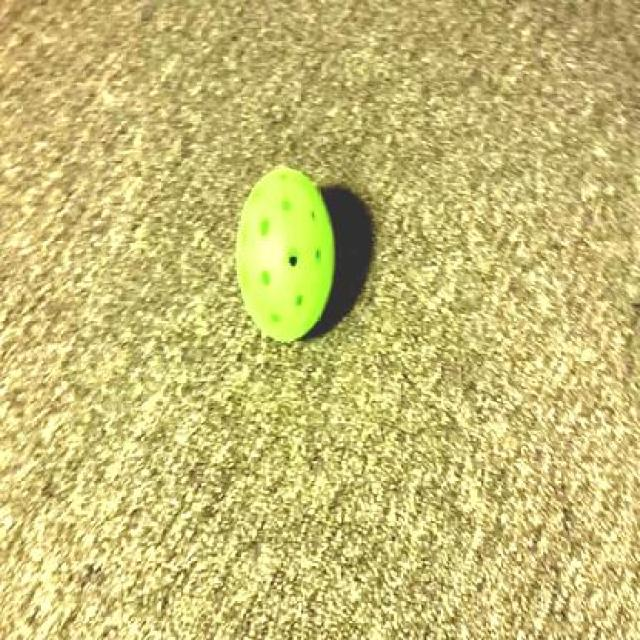ball: (232, 164, 342, 349)
